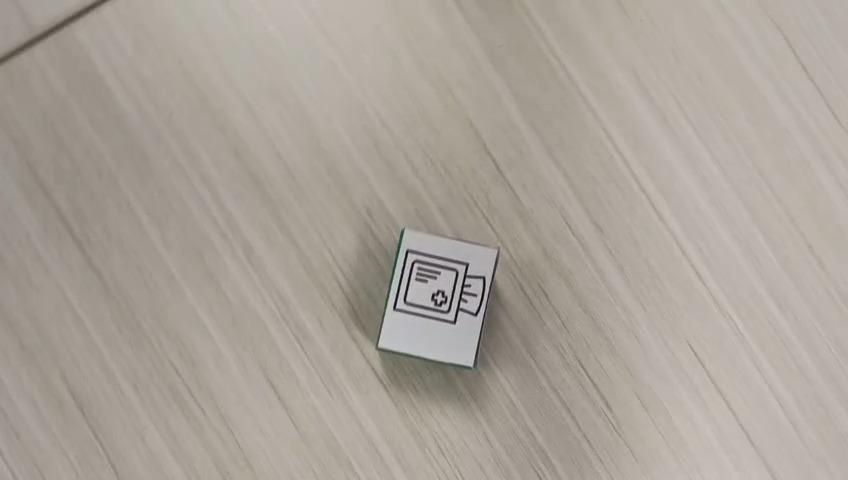Gauze: (375, 226, 500, 369)
